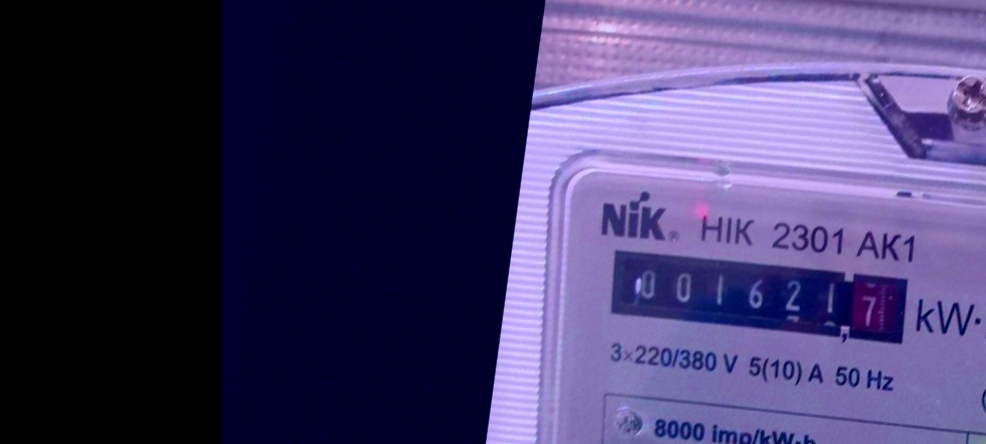0: (671, 266, 698, 306), (637, 264, 661, 300)
1: (822, 277, 841, 315), (712, 270, 730, 307)
2: (782, 275, 808, 314)
6: (745, 274, 769, 311)
7: (856, 290, 881, 329)
screen: (602, 236, 918, 357)
